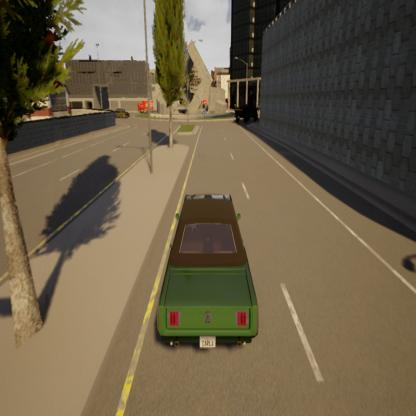Cars: (152, 182, 268, 355), (233, 101, 261, 125), (136, 98, 155, 114), (113, 106, 132, 121)
